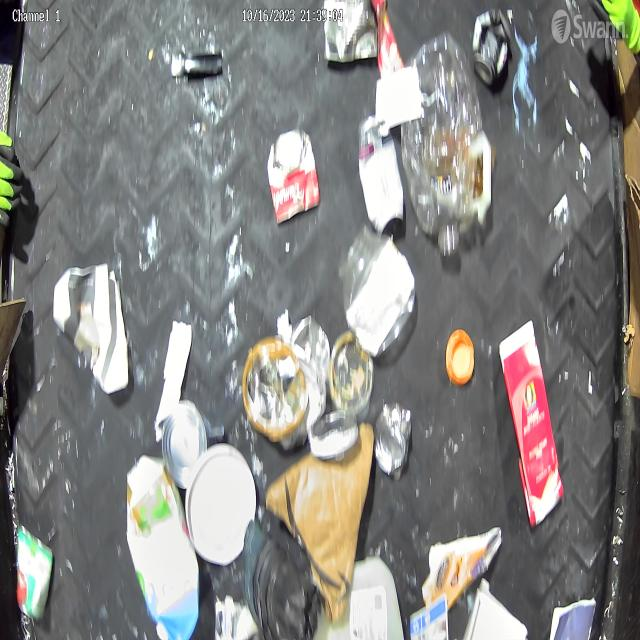can: (357, 110, 405, 242), (266, 126, 322, 228), (161, 397, 209, 492), (15, 522, 54, 622), (322, 0, 378, 67), (472, 4, 513, 88), (373, 400, 413, 482), (308, 407, 360, 458)
milk_jug: (313, 553, 405, 640)
plastic_bottle: (400, 29, 487, 257)
